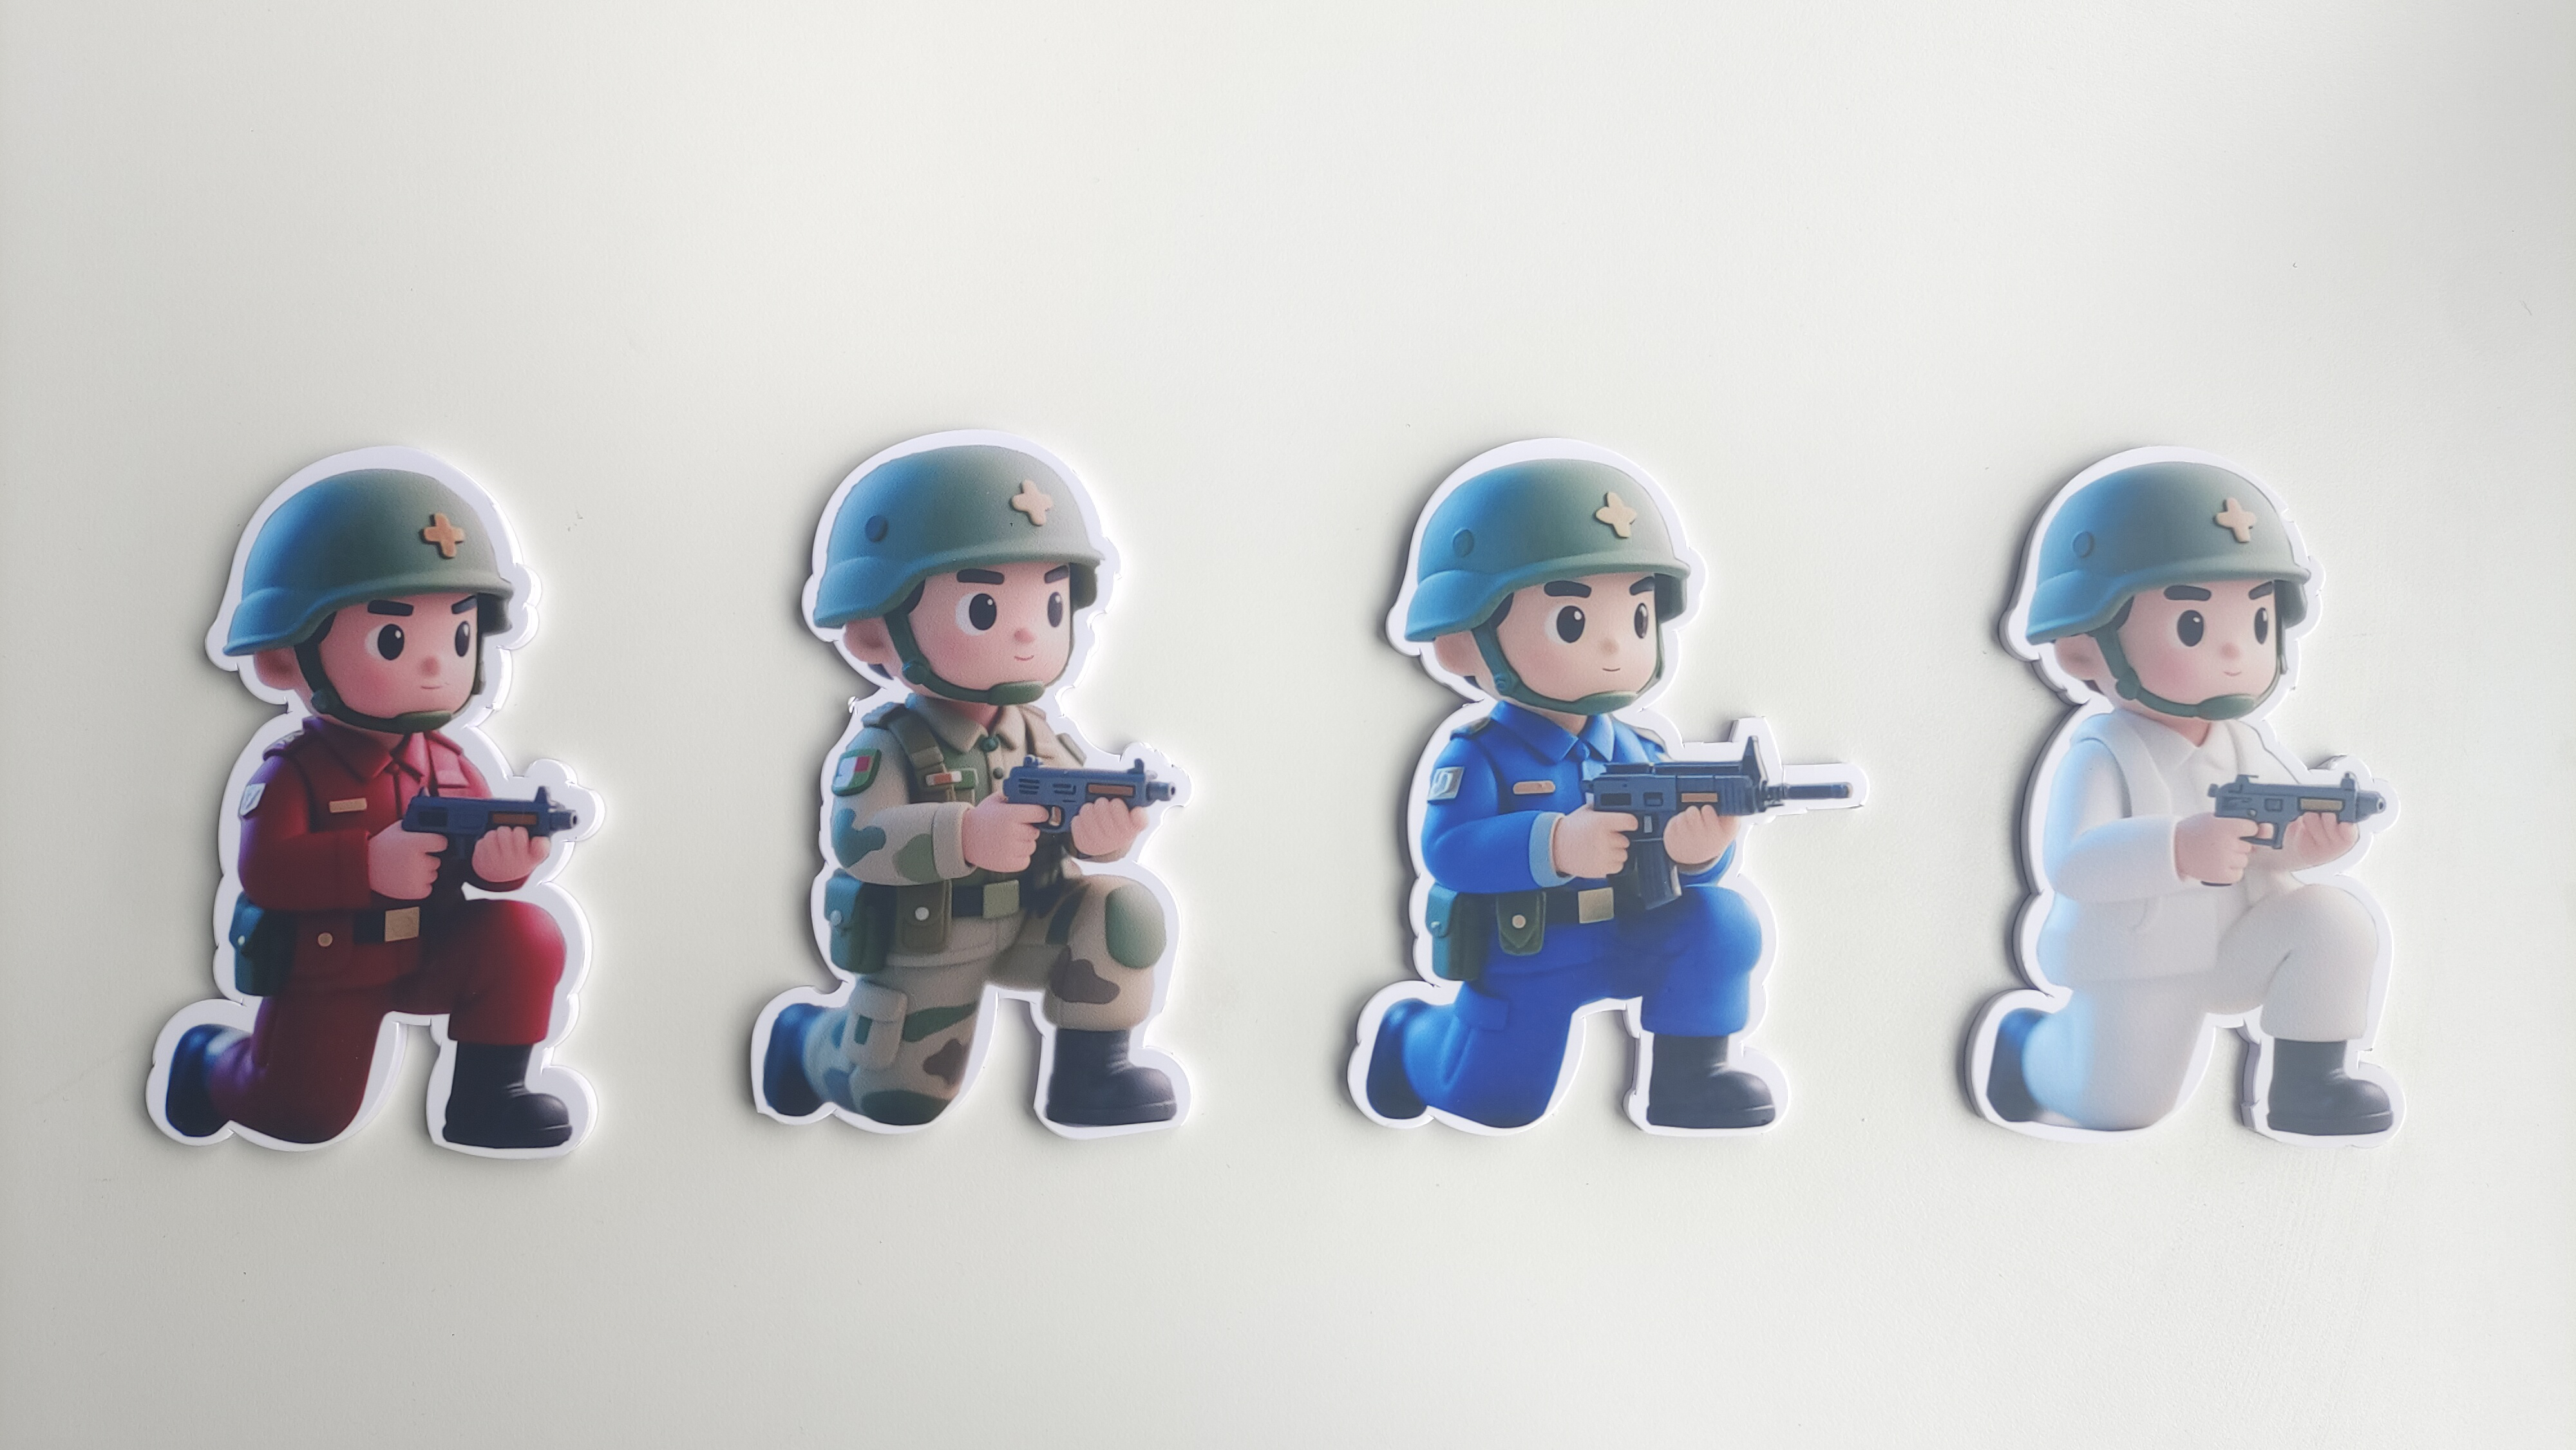enemy1: (126, 744, 598, 1172)
enemy2: (1332, 725, 1801, 1169)
friend: (725, 716, 1210, 1146)
hostage: (1928, 716, 2420, 1146)
